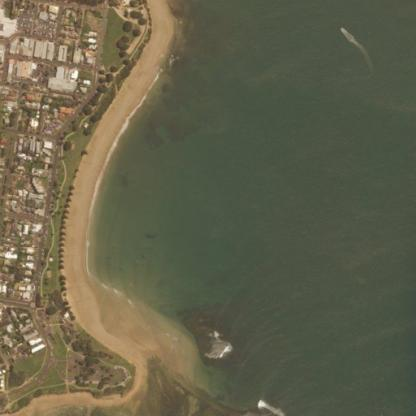ship: (331, 20, 359, 47)
